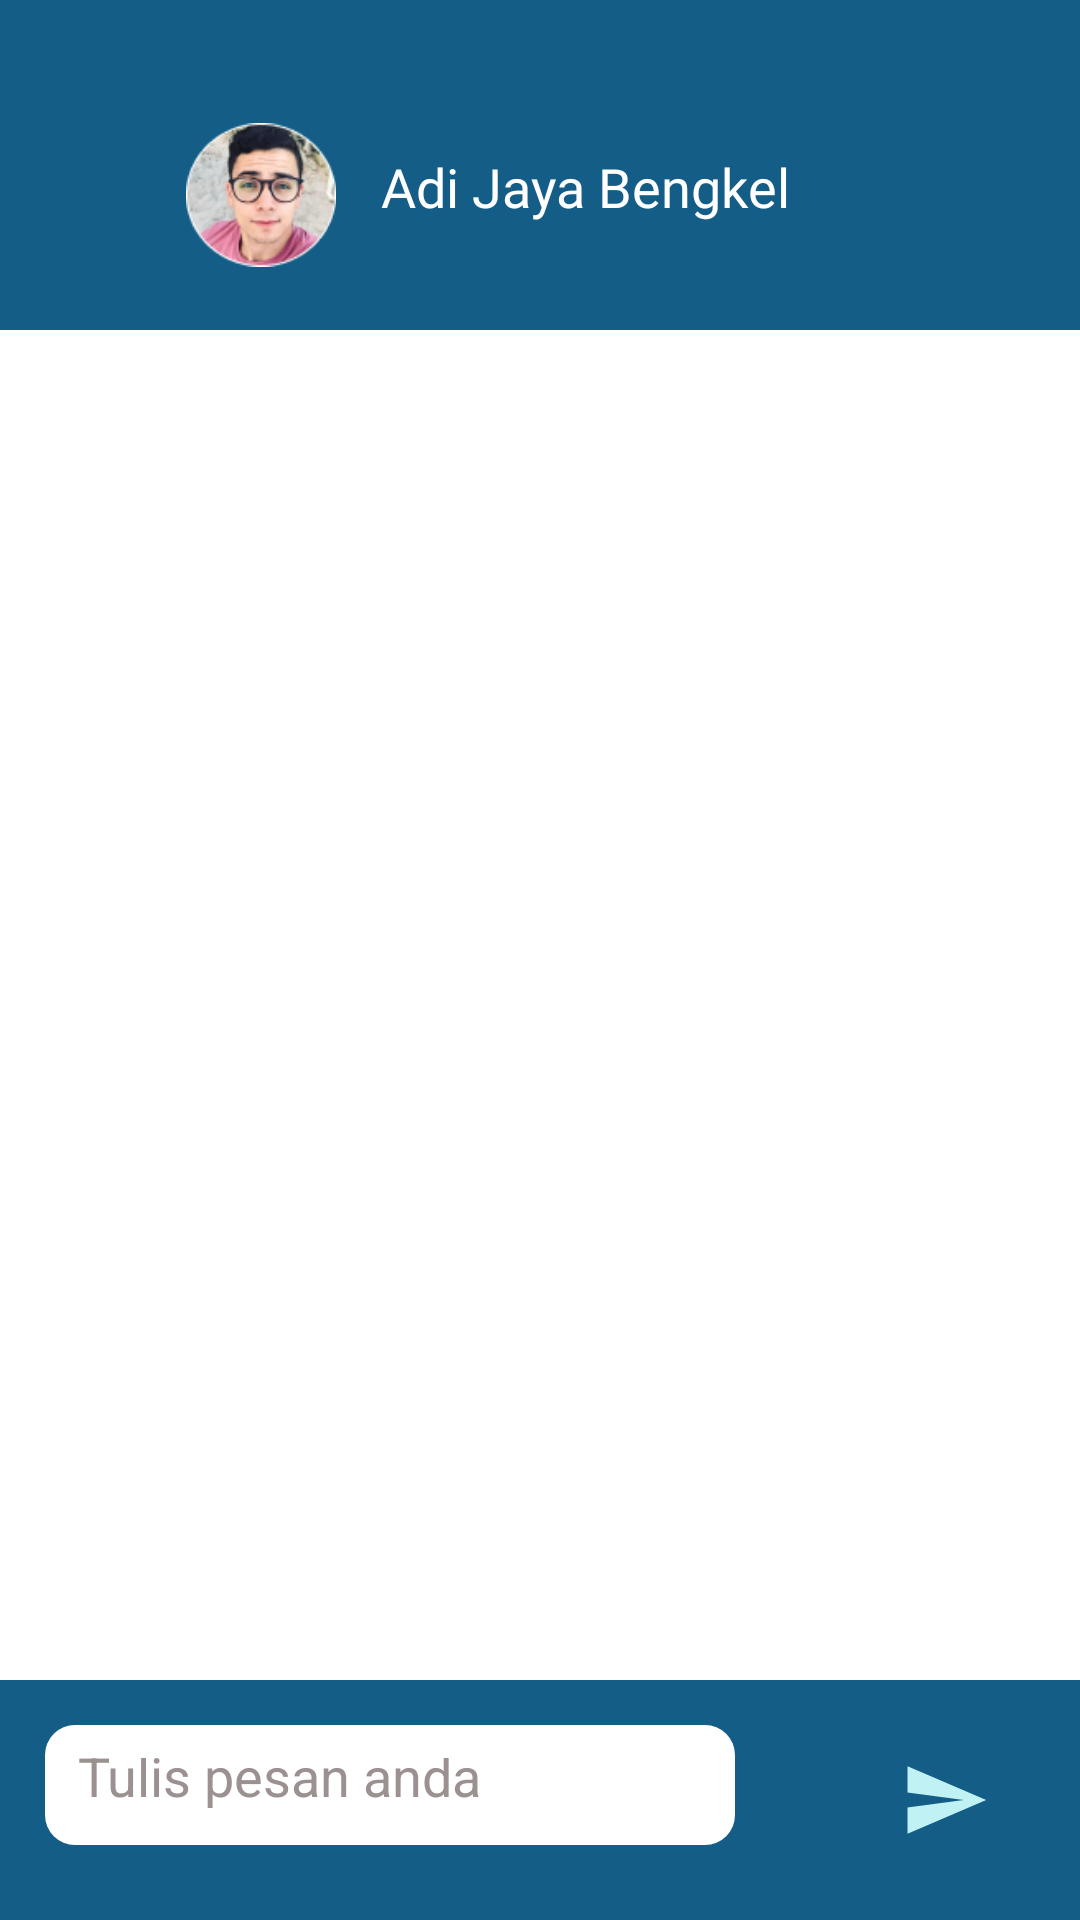

Named icons in this screenshot (1080x1920) and their centers, [x,y]:
send: [946,1800]
